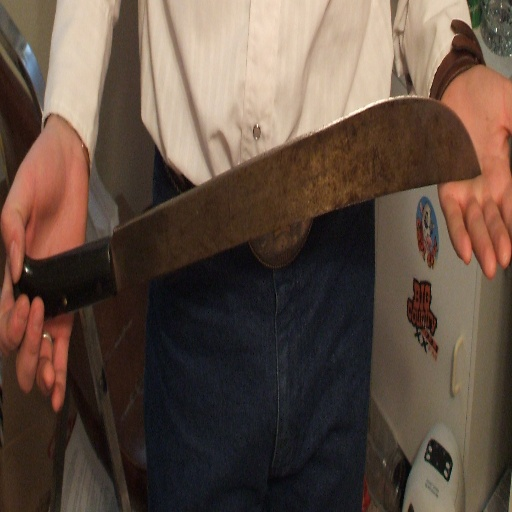hand: (0, 123, 87, 414), (436, 58, 511, 278)
